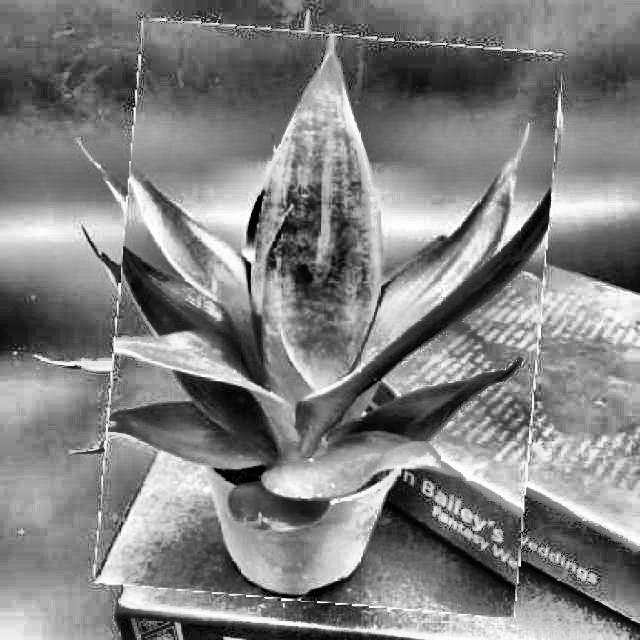plants: (106, 27, 552, 610)
